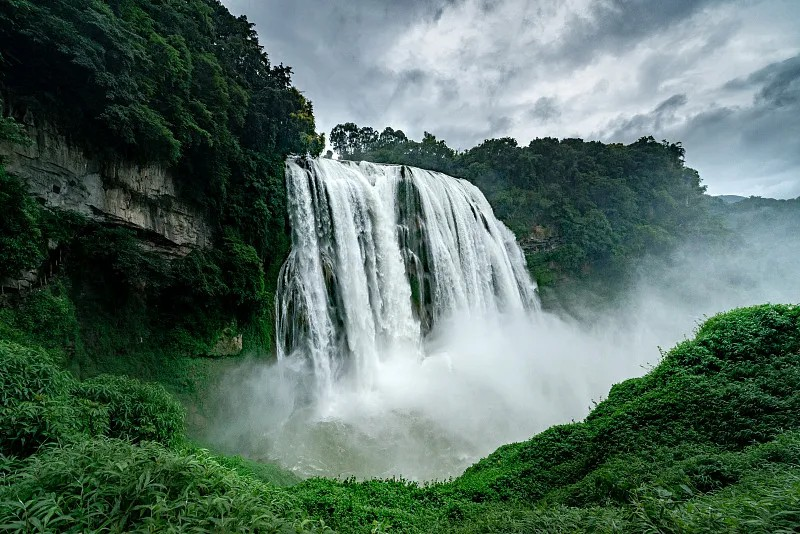Huangguoshu: (277, 153, 542, 370)
